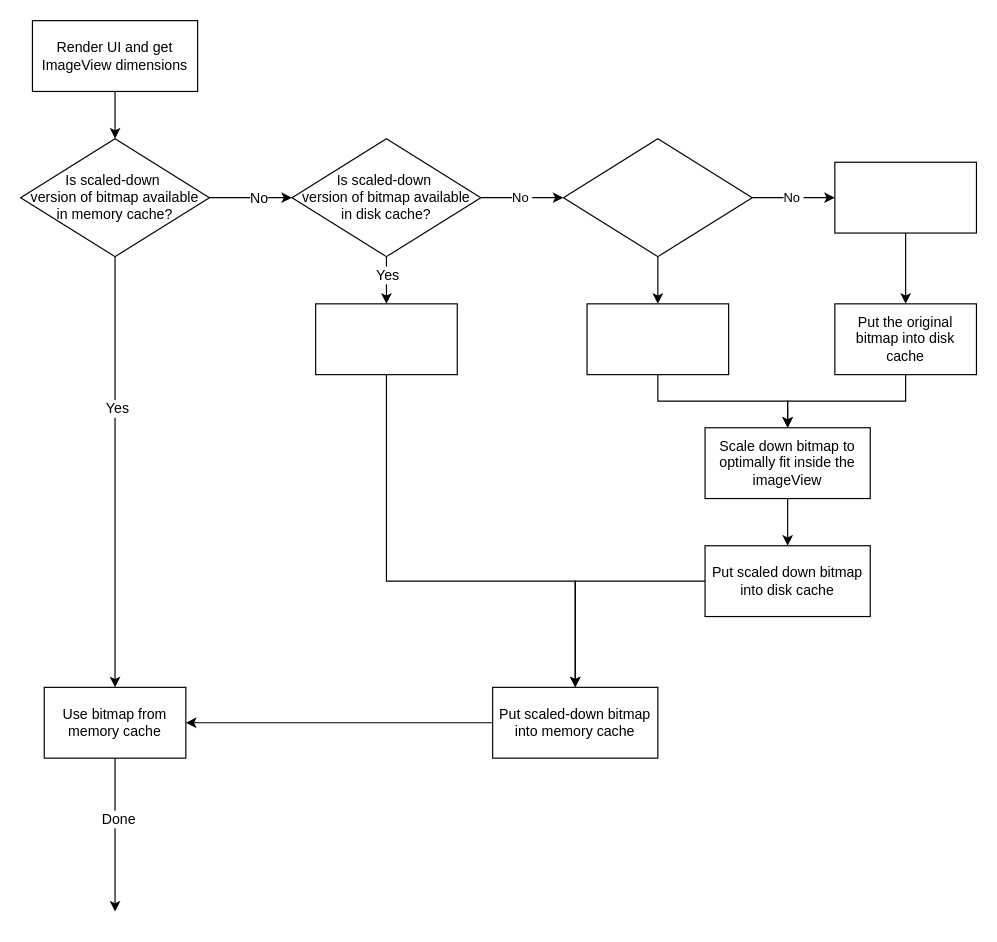
This 997x942 diagram has some shape labels left out. The centre of each missing label's shape, as x and y in pixels:
Fetch remote bitmap: the point at 905,197
Get scaled-down version of bitmap from disk cache: the point at 385,339
Get the original bitmap from disk cache: the point at 657,339
Is original bitmap available in disk cache: the point at 657,197
